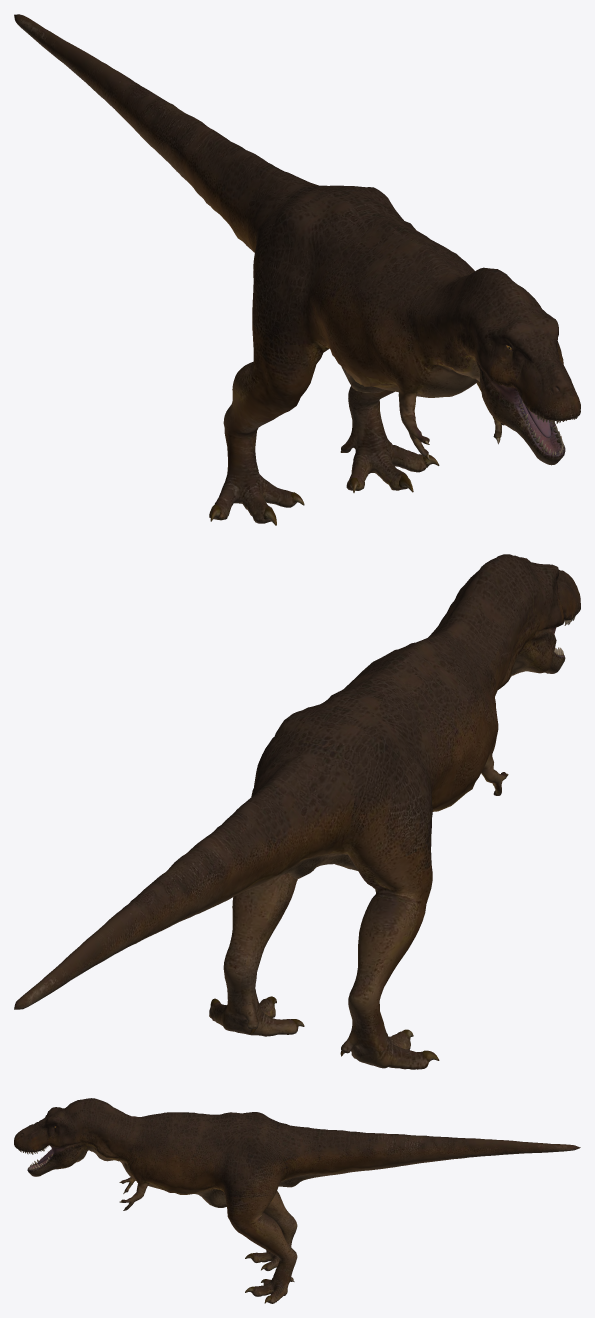
File: trex.glb
3 renders of one model, top to bottom at view 1: azimuth 30°, elevation 25°; view 2: azimuth 150°, elevation 25°; view 3: azimuth 270°, elevation 25°, orthographic. The views are drawn at different scales.
Parts seen in each view (by area): view 1: Tyrant_King_2_Body_0; view 2: Tyrant_King_2_Body_0; view 3: Tyrant_King_2_Body_0.
Part boxes in pixels (x1,y1,x2,y2): Tyrant_King_2_Body_0: (14, 14, 580, 525); Tyrant_King_2_Body_0: (14, 554, 580, 1069); Tyrant_King_2_Body_0: (14, 1098, 580, 1303).
Size of the model in its own units: 0.7828 by 1.16 by 3.31.
Materials: 2 (2 with a texture image).
